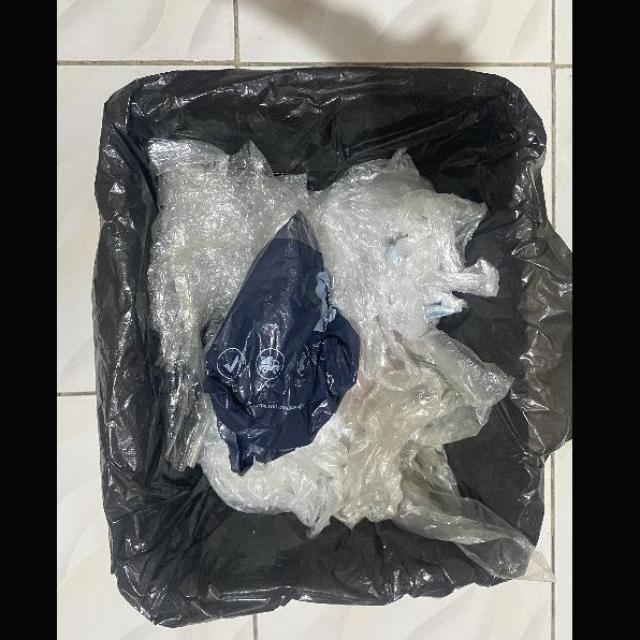tui_ni_long: (145, 138, 554, 582), (198, 211, 359, 476)
